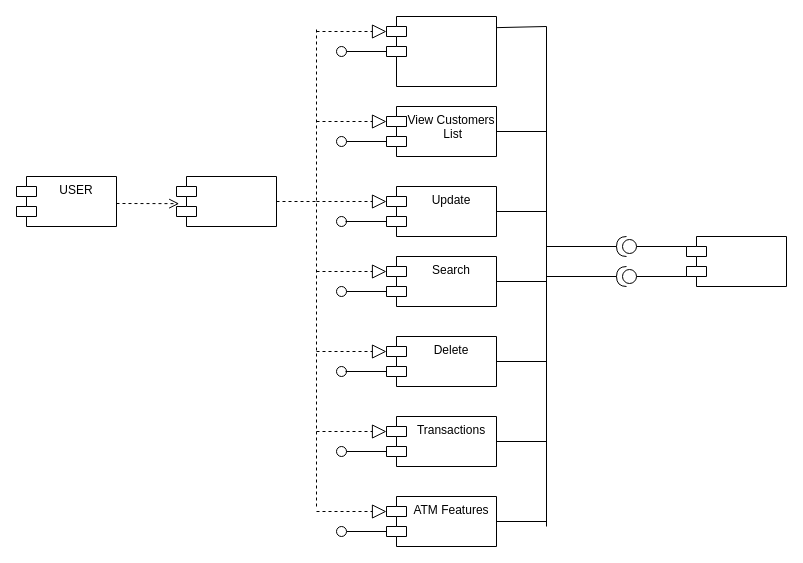
Image size: 803x563. Some labels were removed from this diagram. The centre of each missing label's shape, as x and y in pixels:
"Create New Account" belongs at [441,51].
"Database" belongs at [736,261].
"Main Menu" belongs at [226,201].
